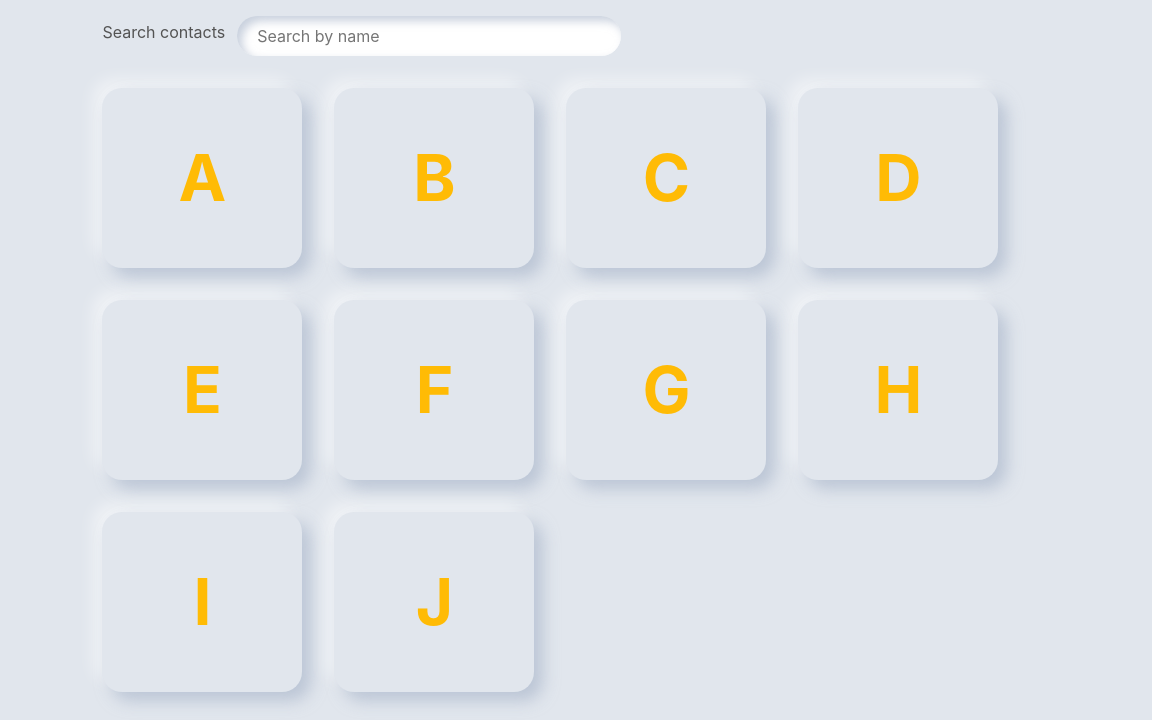
Test: contact card interaction with the email input › clicking a contact card applies the valid email while the field is unedited
Click the button "A" at (202, 178), box [102, 88, 302, 268]
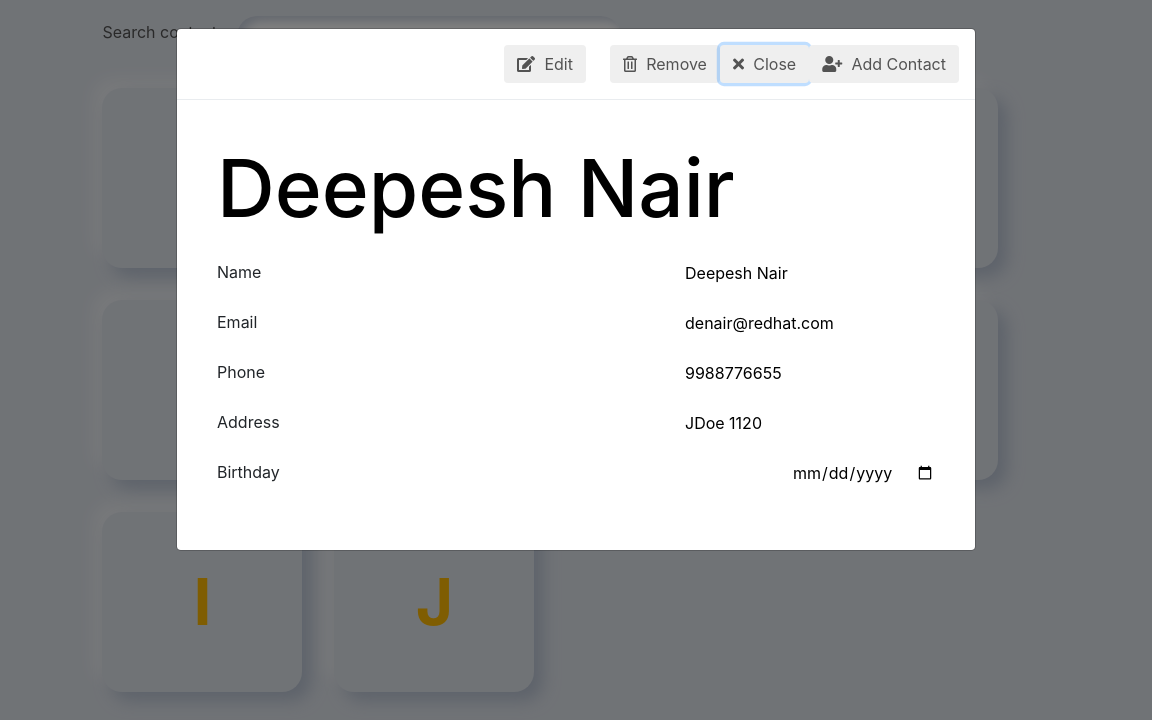
Expected: the field labelled "Email" holds "denair@redhat.com", [683, 310, 935, 336]
